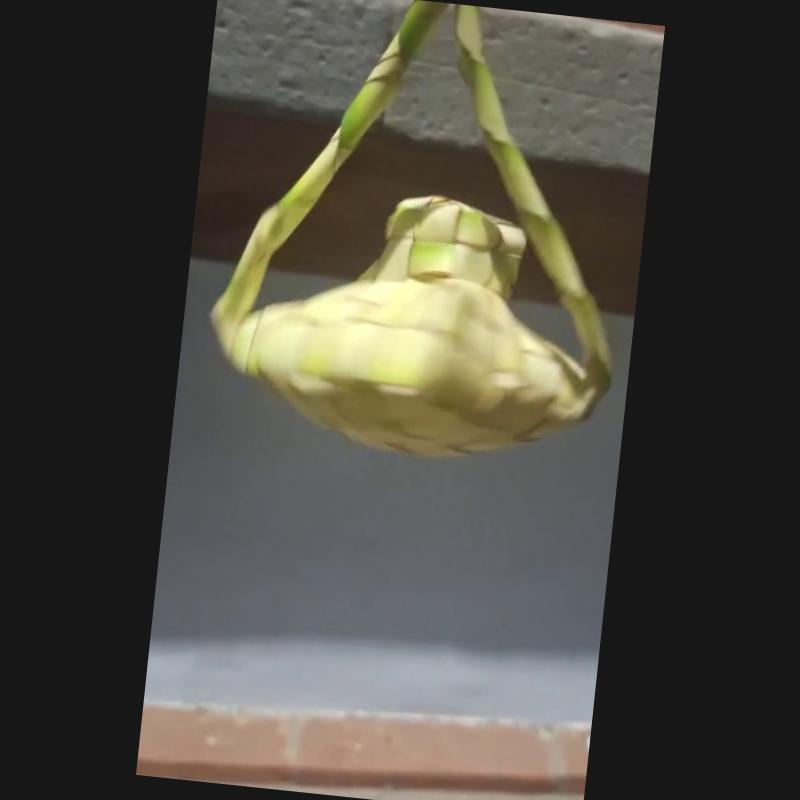Tipat Gong: (200, 0, 614, 466)
